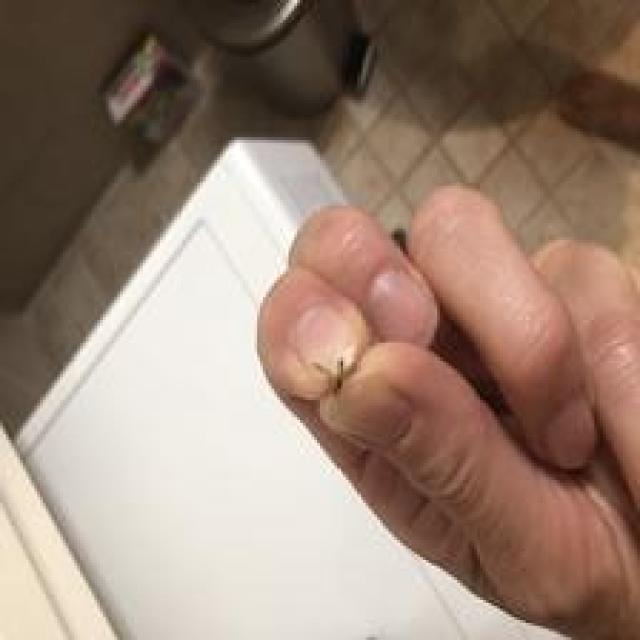Culex: (312, 354, 357, 397)
